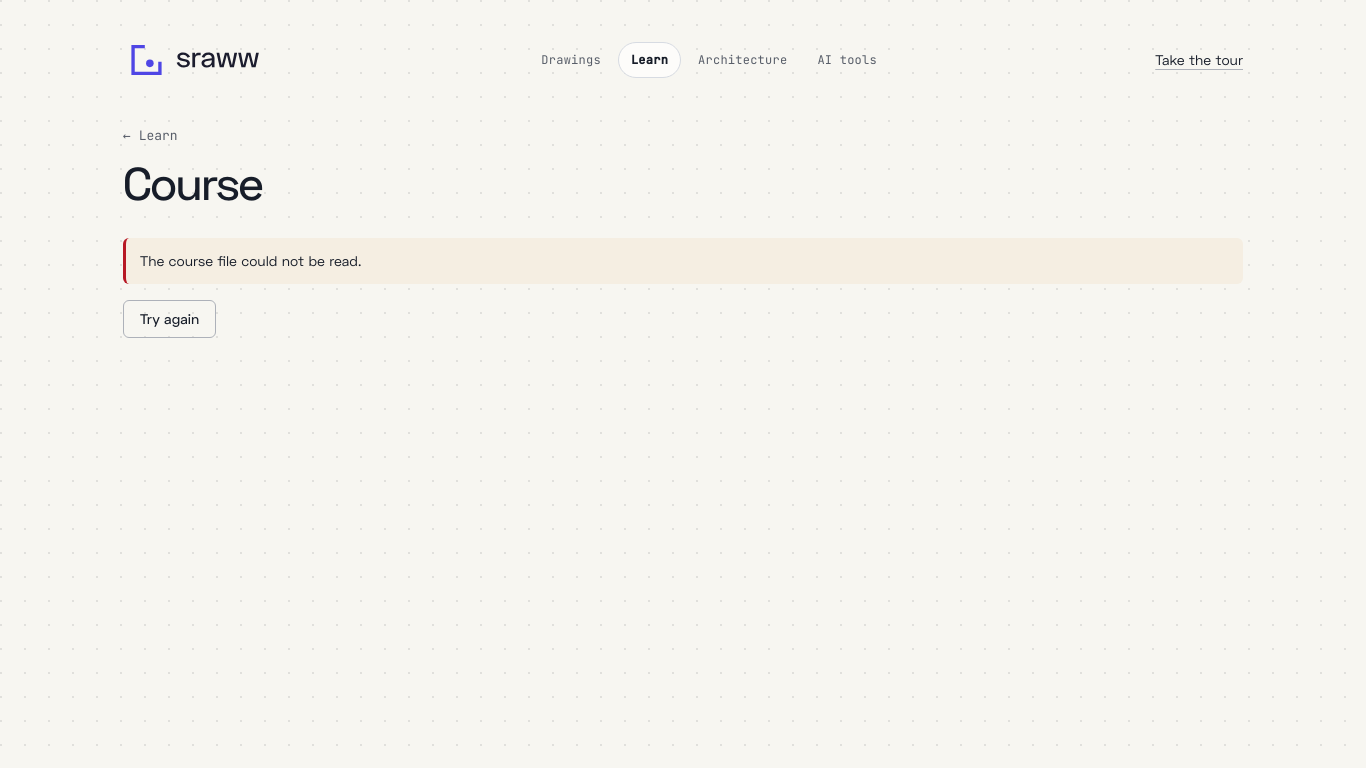
Test: CoursePage › a course that fails to load can be tried again without reloading the page
Expected: the message reads "The course file could not be read.", [140, 252, 361, 269]
Click the button with aria-label "Try again: load this course".
click(170, 318)  # box [123, 300, 216, 338]
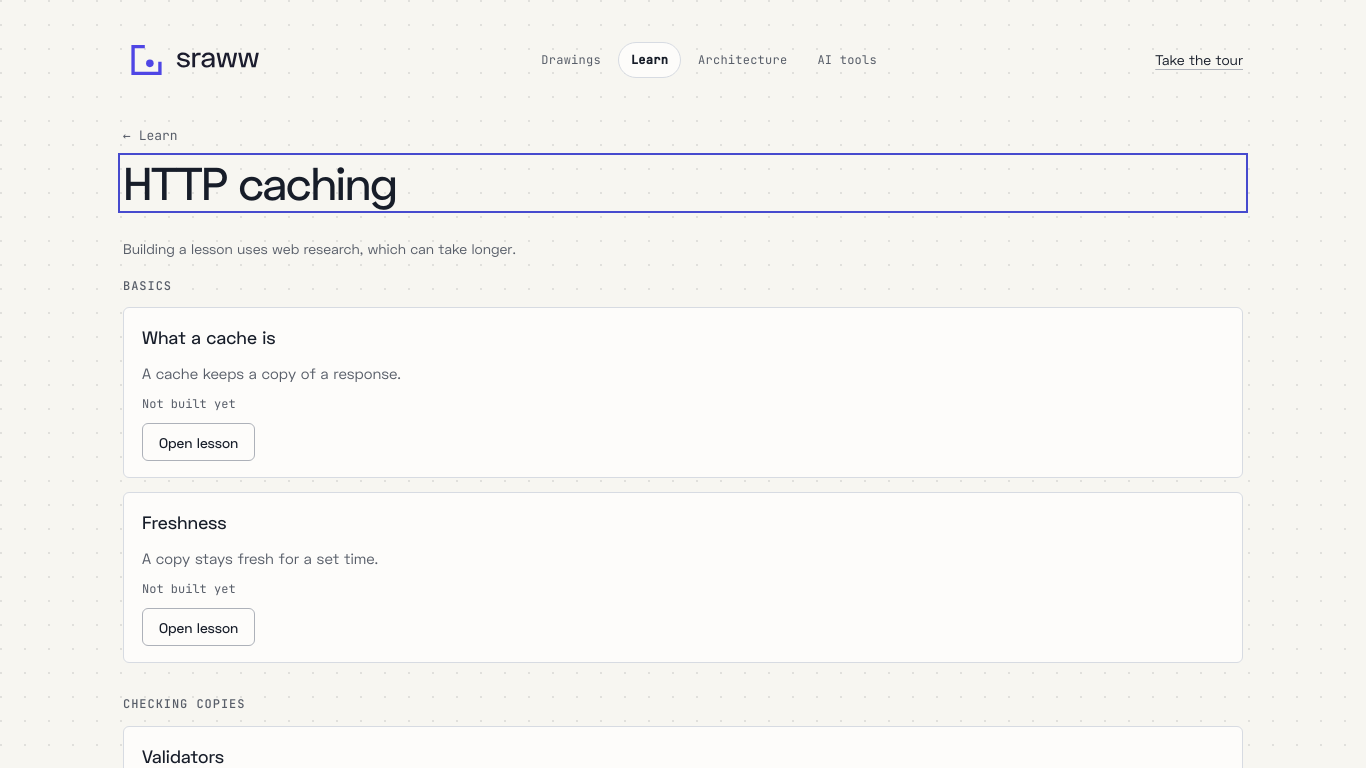
Result: the heading "HTTP caching" is shown at [123, 155, 396, 210]
Result: the message "The course file could not be read." is gone
